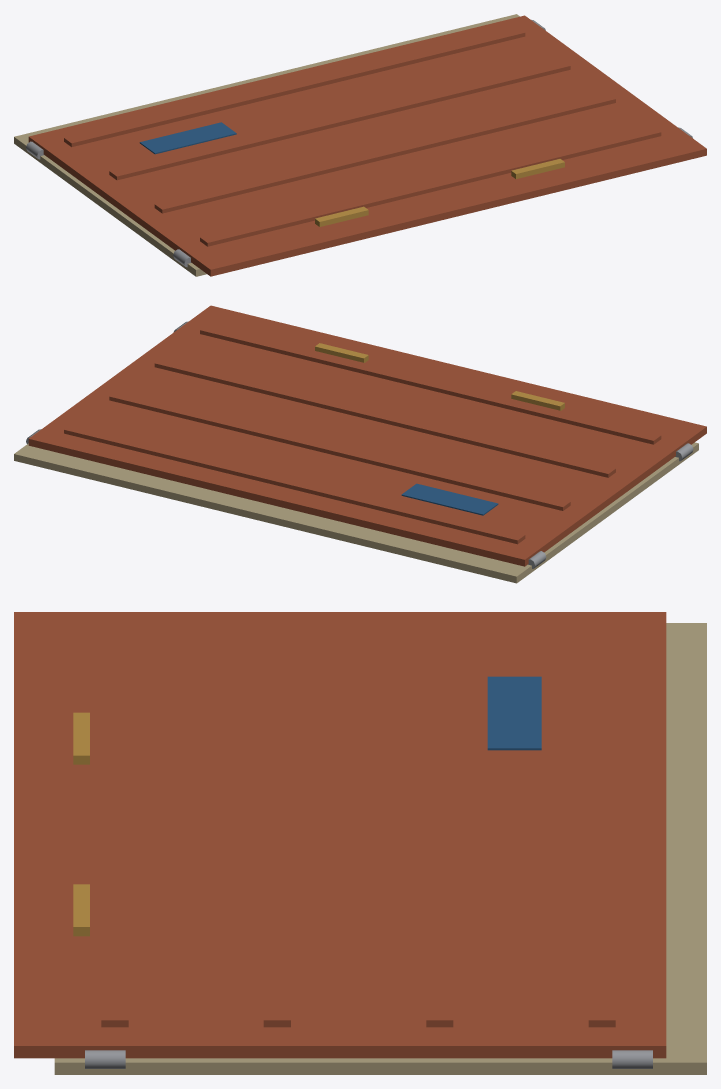
The model's file is drone4_doors.obj.
3 views of the same model, one above another, from view 1: azimuth 30°, elevation 25°; view 2: azimuth 150°, elevation 25°; view 3: azimuth 270°, elevation 25° (orthographic). The views are drawn at different scales.
Visible parts, largest first — view 1: drone4_doors; view 2: drone4_doors; view 3: drone4_doors.
Boxes of the visible parts, x1=… form: drone4_doors: x1=14, y1=14, x2=706, y2=276; drone4_doors: x1=14, y1=305, x2=706, y2=583; drone4_doors: x1=14, y1=612, x2=706, y2=1074.
Bounding box in the file's own units: 3.11 × 0.115 × 2.05.
